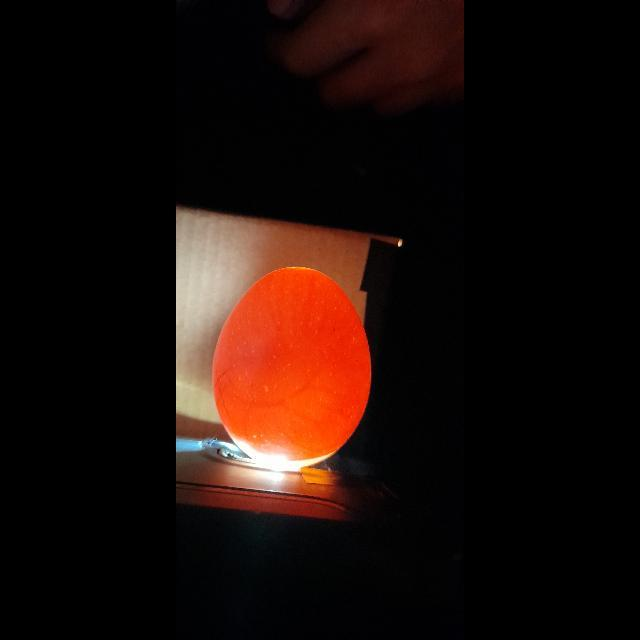Fertile: (208, 260, 376, 470)
